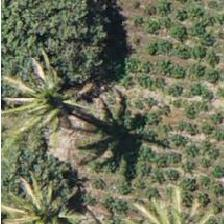Kelapa_Sawit: (0, 51, 87, 141), (0, 162, 84, 224)
